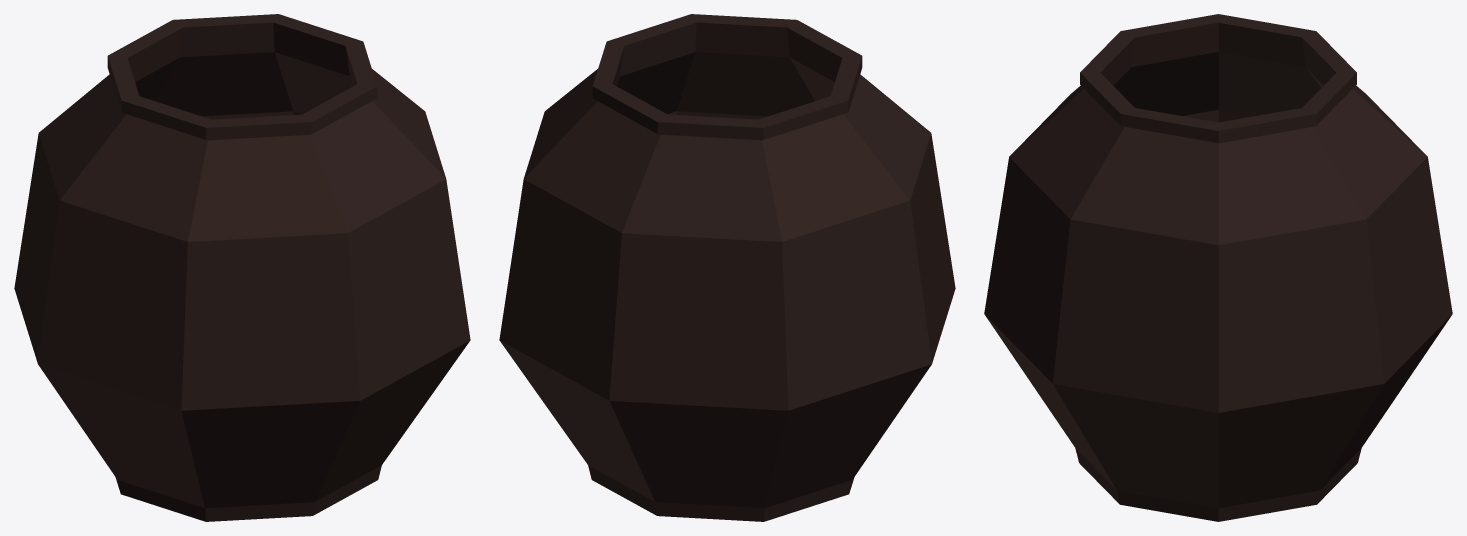
The picture shows the model from 3 angles, left to right: view 1: azimuth 30°, elevation 25°; view 2: azimuth 150°, elevation 25°; view 3: azimuth 270°, elevation 25°; orthographic projection.
Parts seen in each view (by area): view 1: guanzi_1; view 2: guanzi_1; view 3: guanzi_1.
Boxes of the visible parts, box(x1,y1,x2,y2) form: guanzi_1: box(14, 14, 470, 521); guanzi_1: box(499, 14, 955, 521); guanzi_1: box(984, 14, 1452, 521).
Size of the model in its own units: 61.83 by 56.86 by 61.83.
